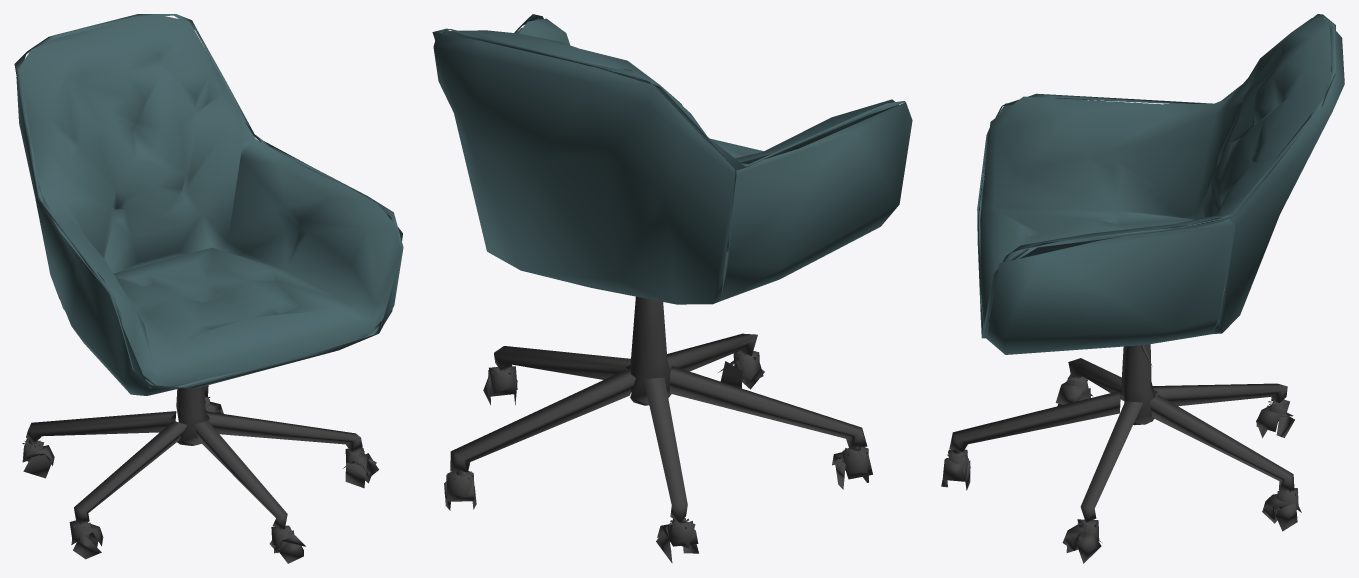
Rendered from boss chair.gltf.
3 views of the same model, side by side, from view 1: azimuth 30°, elevation 25°; view 2: azimuth 150°, elevation 25°; view 3: azimuth 270°, elevation 25° (orthographic). The views are drawn at different scales.
Visible parts, largest first — view 1: Plane; view 2: Plane; view 3: Plane.
Part boxes in pixels (x1,y1,x2,y2): Plane: [14, 14, 403, 563]; Plane: [432, 14, 912, 563]; Plane: [941, 14, 1344, 563].
Bounding box in the file's own units: 0.6691 × 0.8514 × 0.7141.
